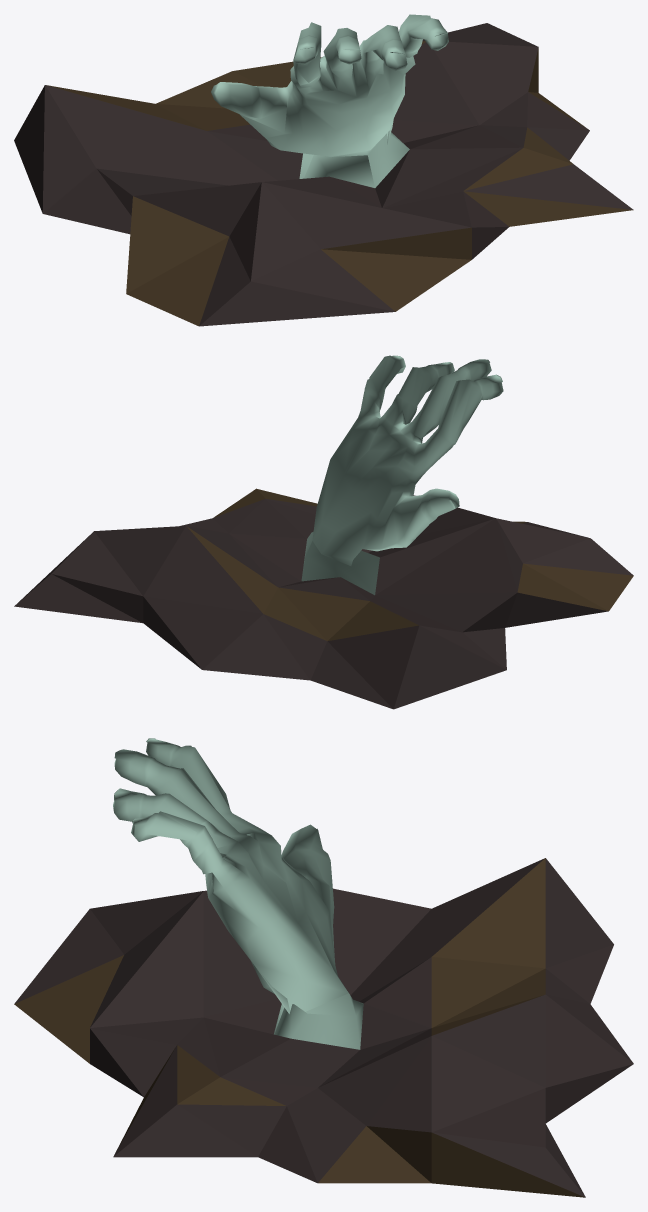
File: zombieHand.fbx
The picture shows the model from 3 angles, top to bottom: view 1: azimuth 30°, elevation 25°; view 2: azimuth 150°, elevation 25°; view 3: azimuth 270°, elevation 25°; orthographic projection. The views are drawn at different scales.
Parts seen in each view (by area): view 1: lowPolyIceAssets:zombie_normal:Main__Hips_; view 2: lowPolyIceAssets:zombie_normal:Main__Hips_; view 3: lowPolyIceAssets:zombie_normal:Main__Hips_.
Part boxes in pixels (left/top/right/bottom): lowPolyIceAssets:zombie_normal:Main__Hips_: left=14, top=14, right=633, bottom=326; lowPolyIceAssets:zombie_normal:Main__Hips_: left=14, top=355, right=633, bottom=709; lowPolyIceAssets:zombie_normal:Main__Hips_: left=14, top=738, right=633, bottom=1197.
Bounding box in the file's own units: 0.0292 × 0.0119 × 0.0261.
